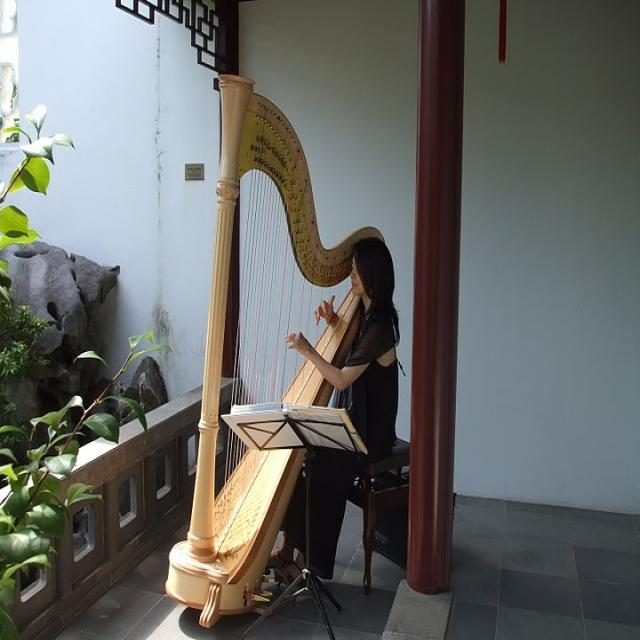harp: (168, 73, 386, 620)
